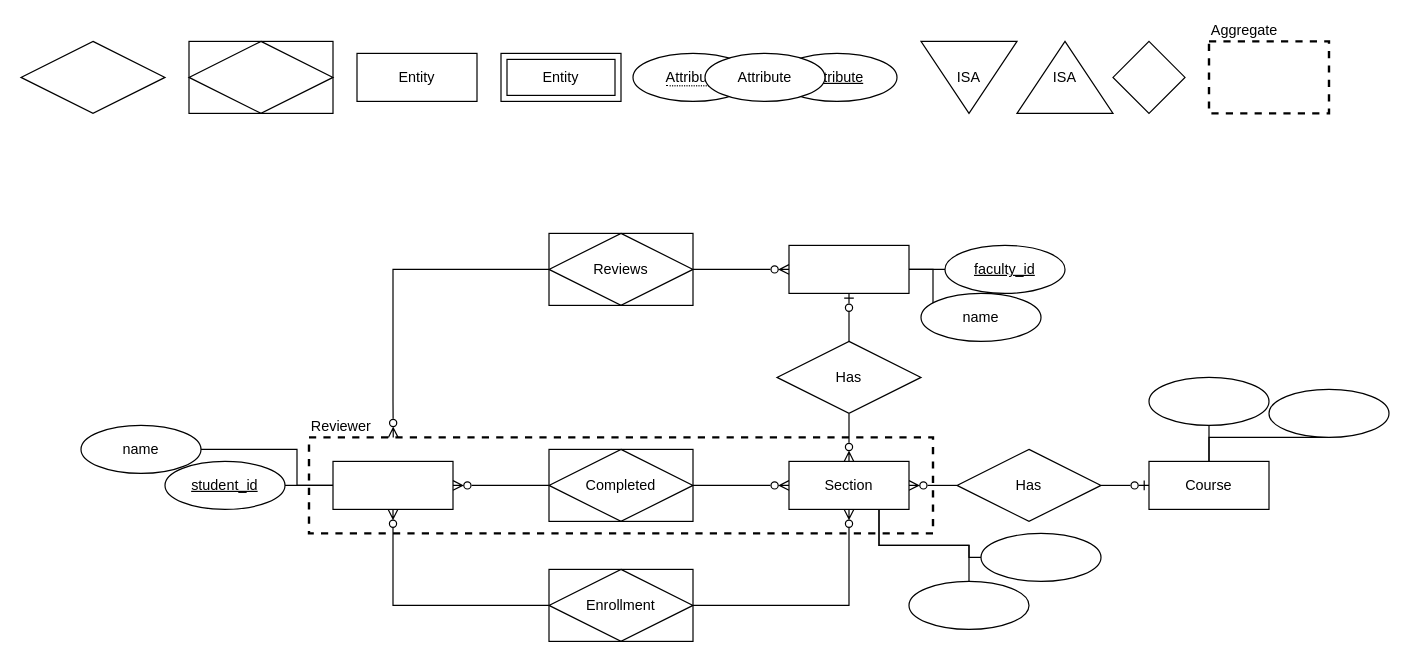
This 1410x662 diagram has some shape labels left out. Here are the shapes that lost their labels. From the top down, the box of each, then its label:
(20, 40, 165, 113): Relationship
(188, 40, 333, 113): Associative Entity
(1112, 40, 1185, 113): recursive
(788, 244, 909, 293): Professor
(1148, 376, 1269, 425): course_id
(1268, 388, 1389, 437): description
(332, 460, 453, 509): Student
(980, 532, 1101, 581): waitlist
(908, 580, 1029, 629): CRN
